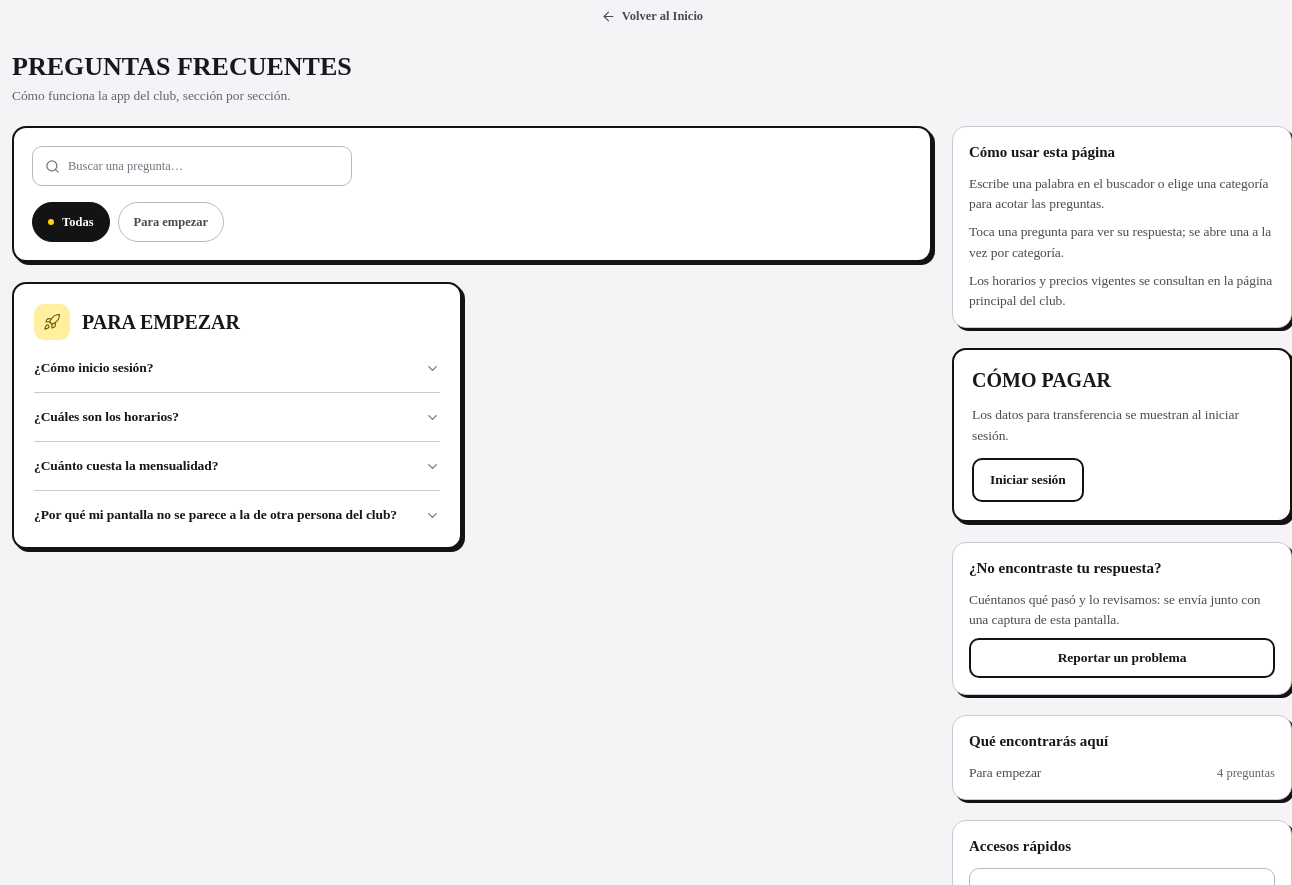
Test case: AyudaPage — the FAQ is the whole surface (#1374 correction) › directs the horarios answer to the landing's live section with a working link
Click the button "¿Cuáles son los horarios?".
click(106, 417)  # box [34, 405, 440, 429]
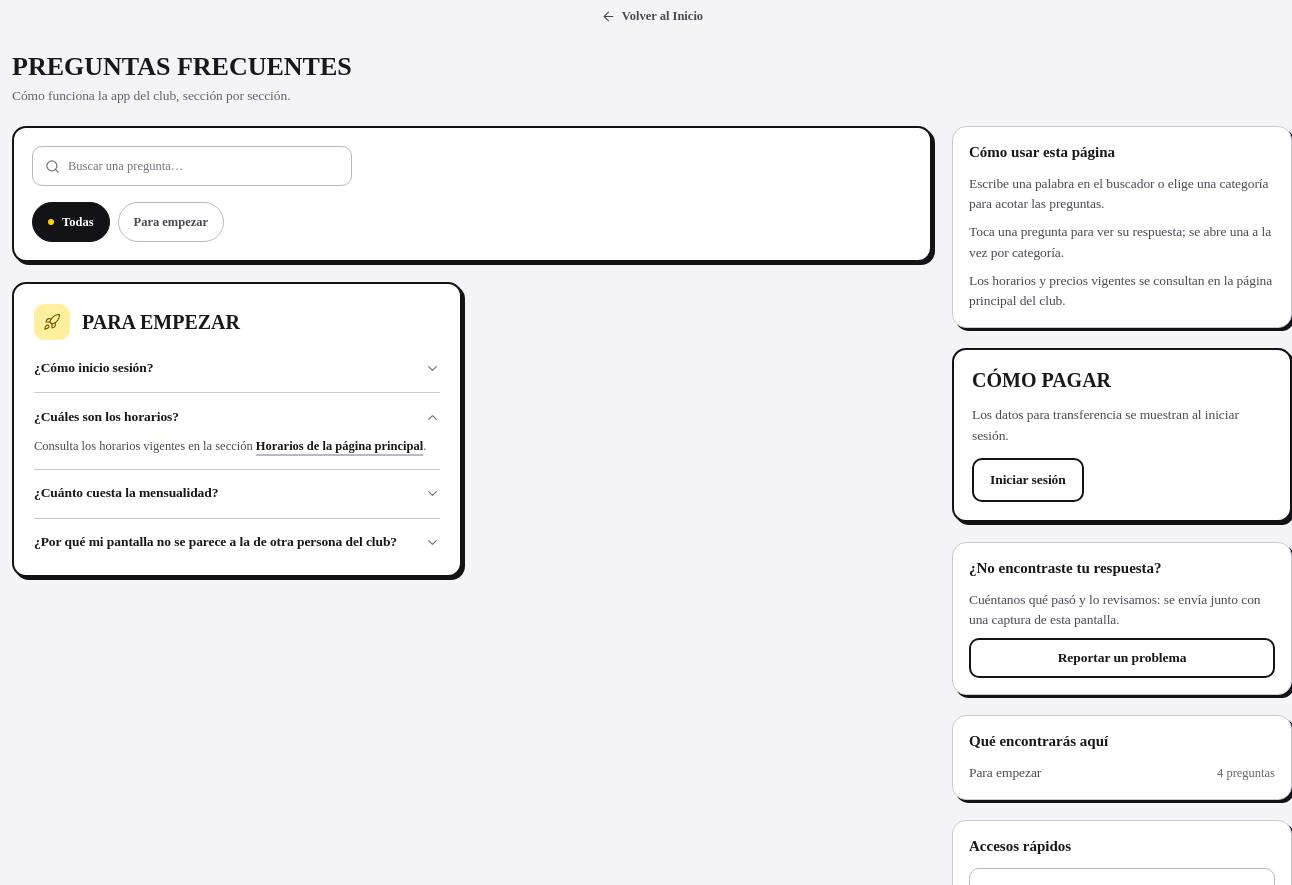
Now the link "Horarios de la página principal" is shown, box [256, 439, 423, 453]
